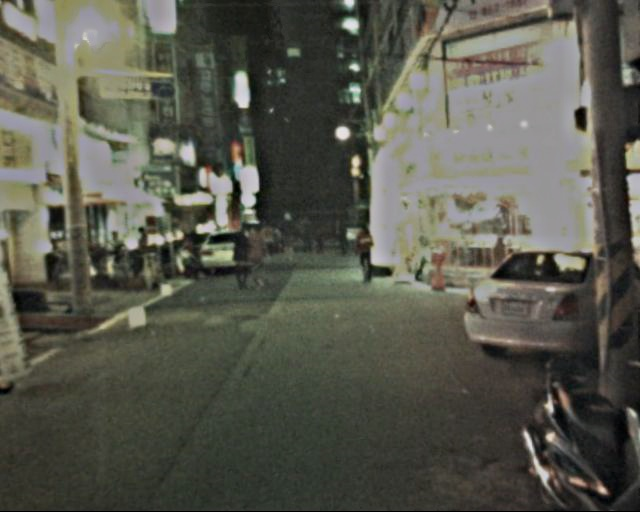person: (242, 223, 275, 292), (227, 225, 257, 292), (351, 224, 380, 287), (272, 209, 299, 264), (294, 214, 315, 255), (331, 222, 349, 262), (311, 223, 325, 256)
